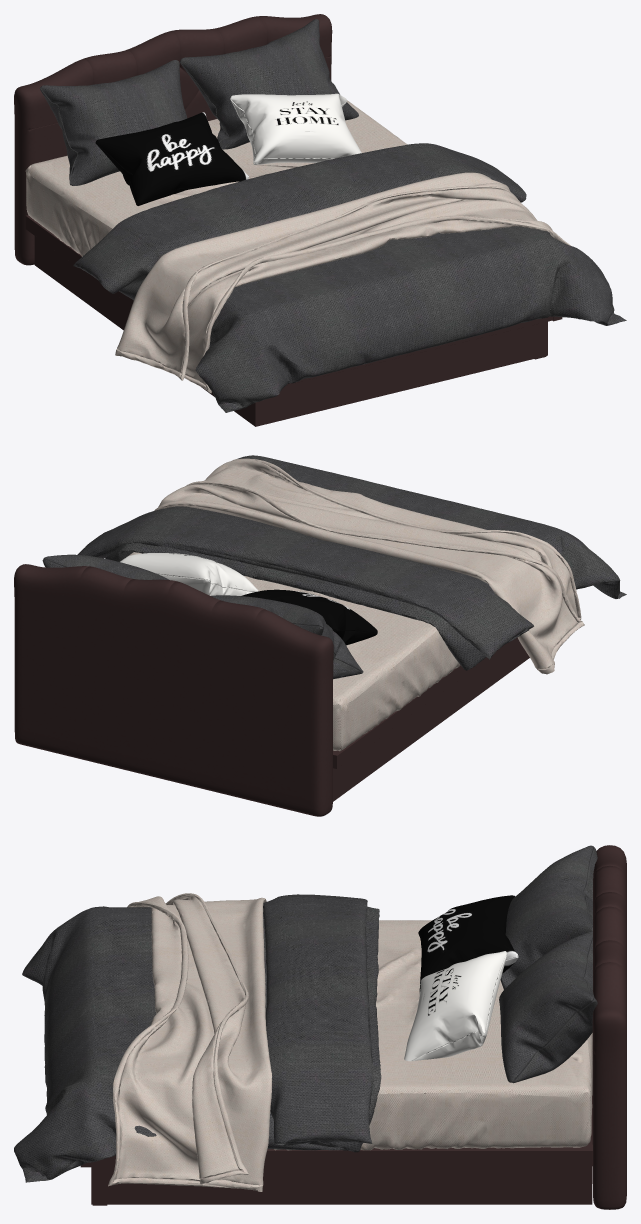
File: MEGA_PACK_BED__bed-99483.glb
3 renders of one model, top to bottom at view 1: azimuth 30°, elevation 25°; view 2: azimuth 150°, elevation 25°; view 3: azimuth 270°, elevation 25°, orthographic. The views are drawn at different scales.
Visible parts, largest first — view 1: bed-99483; view 2: bed-99483; view 3: bed-99483.
Part boxes in pixels (left/top/right/bottom): bed-99483: left=14, top=14, right=626, bottom=426; bed-99483: left=14, top=455, right=626, bottom=816; bed-99483: left=14, top=845, right=626, bottom=1209.
Bounding box in the file's own units: 2.2 × 0.9549 × 2.41.
Materials: 7 (7 with a texture image).
